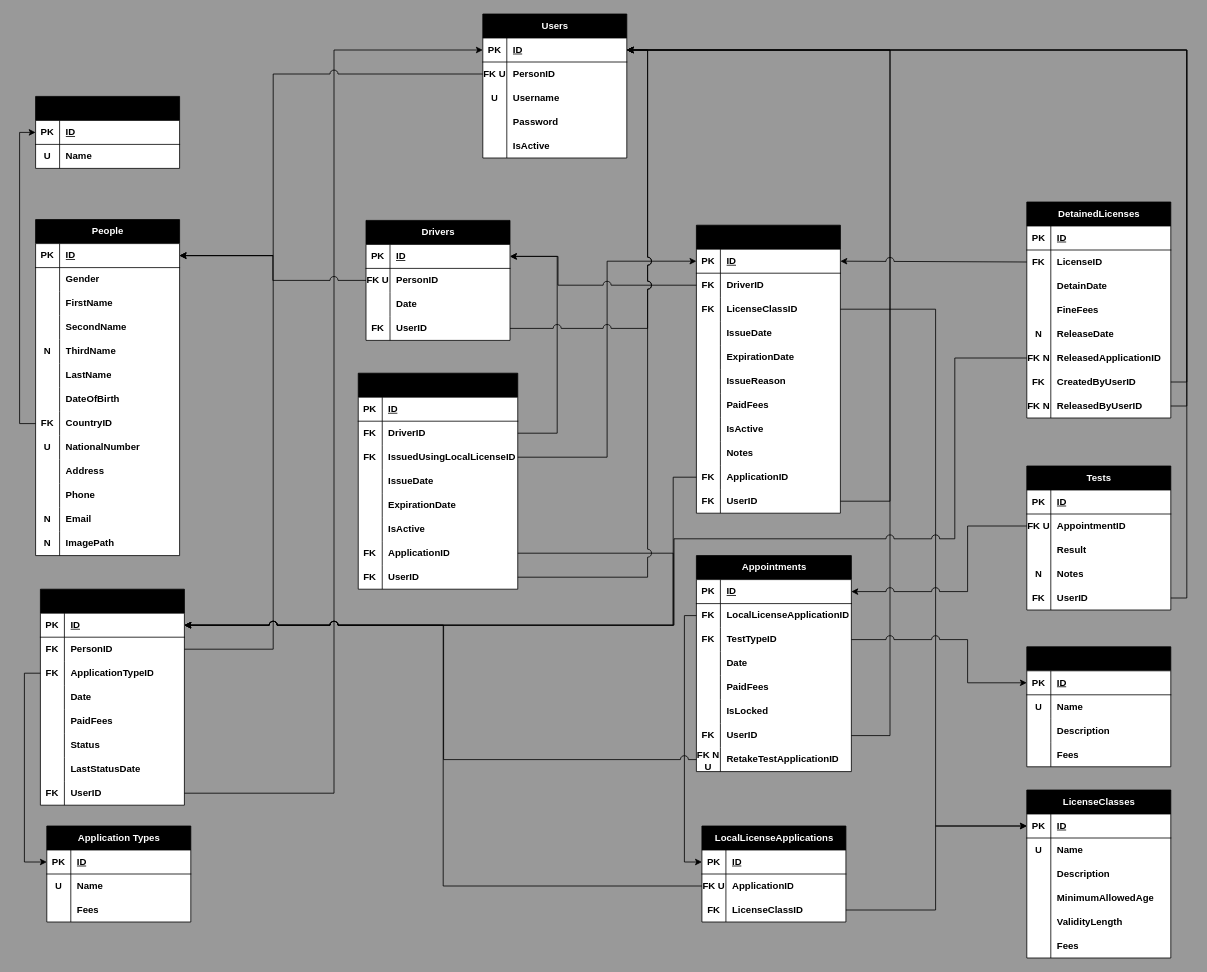
This 1207x972 diagram has some shape labels left out. Each missing label, with the box of its shape:
Applications: (40, 588, 184, 805)
Countries: (35, 96, 180, 168)
InternationalLicenses: (357, 372, 518, 589)
Licenses: (696, 224, 840, 513)
TestTypes: (1026, 646, 1171, 767)
